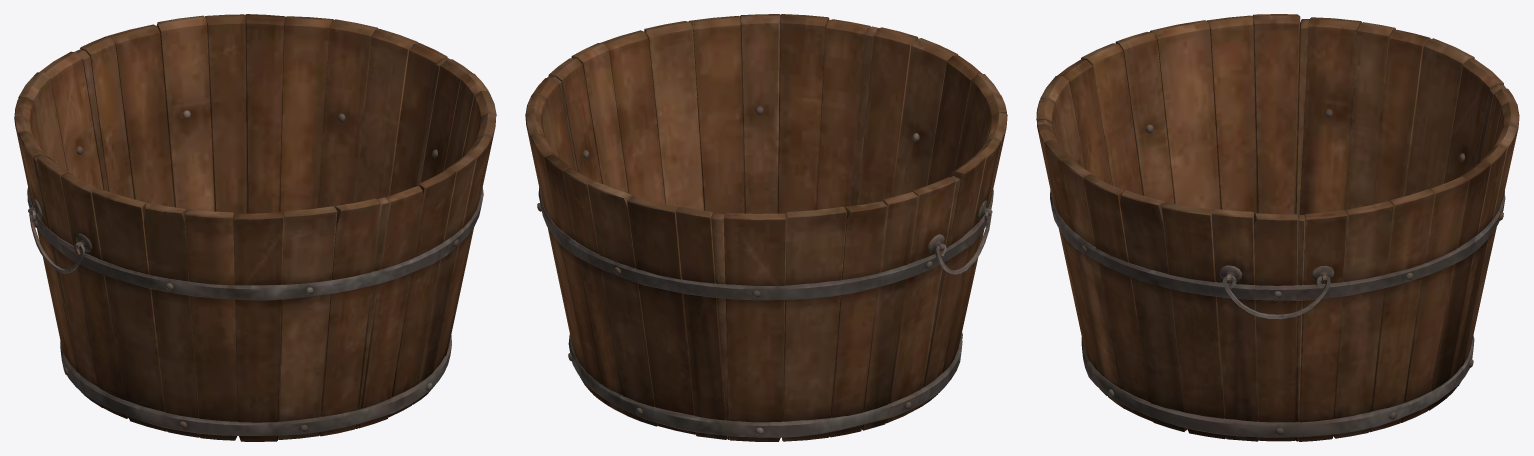
File: wooden_bucket_02.glb
3 views of the same model, side by side, from view 1: azimuth 30°, elevation 25°; view 2: azimuth 150°, elevation 25°; view 3: azimuth 270°, elevation 25° (orthographic).
Visible parts, largest first — view 1: wooden_bucket_02_lod0; view 2: wooden_bucket_02_lod0; view 3: wooden_bucket_02_lod0.
Part boxes in pixels (bbox=[...]): wooden_bucket_02_lod0: bbox=[14, 14, 496, 441]; wooden_bucket_02_lod0: bbox=[525, 14, 1007, 441]; wooden_bucket_02_lod0: bbox=[1036, 14, 1519, 441].
Size of what is drawn, in the model's own units: 0.6153 by 0.3504 by 0.6163.
1 material, 1 textured.
